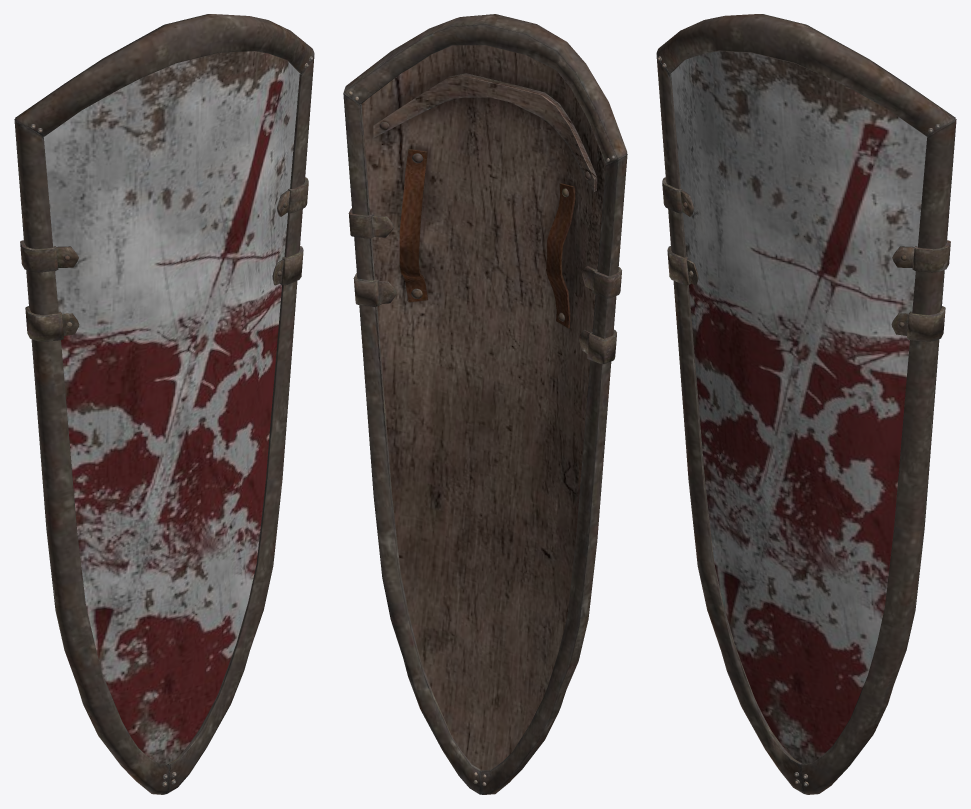
The model's file is kite_shield.glb.
3 views of the same model, side by side, from view 1: azimuth 30°, elevation 25°; view 2: azimuth 150°, elevation 25°; view 3: azimuth 330°, elevation 25° (orthographic). The views are drawn at different scales.
Visible parts, largest first — view 1: kite_shield_body, kite_shield_metal_trim, kite_shield_clamps_and_bolts; view 2: kite_shield_body, kite_shield_metal_trim, kite_shield_clamps_and_bolts; view 3: kite_shield_body, kite_shield_metal_trim, kite_shield_clamps_and_bolts.
Boxes of the visible parts, left/top/right/bottom form: kite_shield_body: left=43, top=51, right=299, bottom=764; kite_shield_metal_trim: left=14, top=14, right=314, bottom=794; kite_shield_clamps_and_bolts: left=20, top=56, right=312, bottom=786; kite_shield_body: left=361, top=45, right=606, bottom=770; kite_shield_metal_trim: left=343, top=14, right=627, bottom=794; kite_shield_clamps_and_bolts: left=348, top=91, right=621, bottom=785; kite_shield_body: left=671, top=51, right=927, bottom=764; kite_shield_metal_trim: left=656, top=14, right=956, bottom=794; kite_shield_clamps_and_bolts: left=658, top=56, right=950, bottom=786.
Size of the model in its own units: 0.5432 by 1.39 by 0.1347.
Materials: 2 (2 with a texture image).
